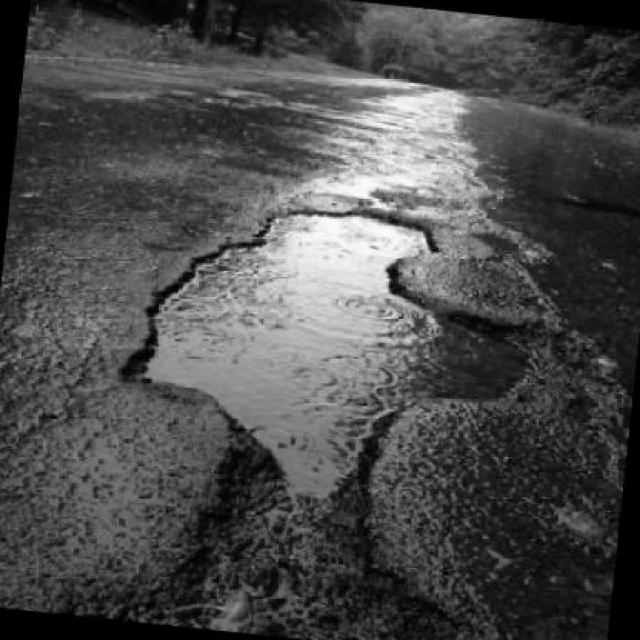pothole: (102, 179, 550, 515)
